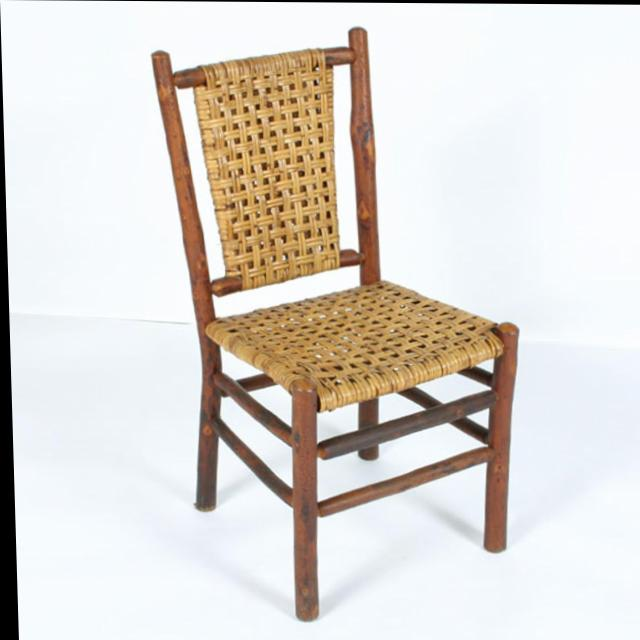Chair: (144, 22, 523, 623)
